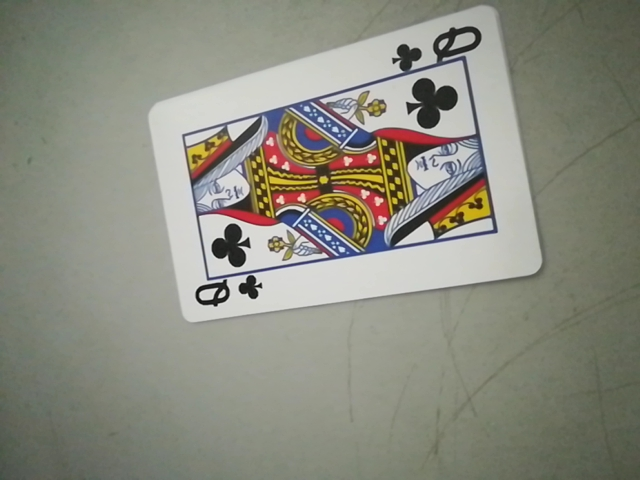mh q: (389, 21, 489, 73), (188, 264, 266, 321)
